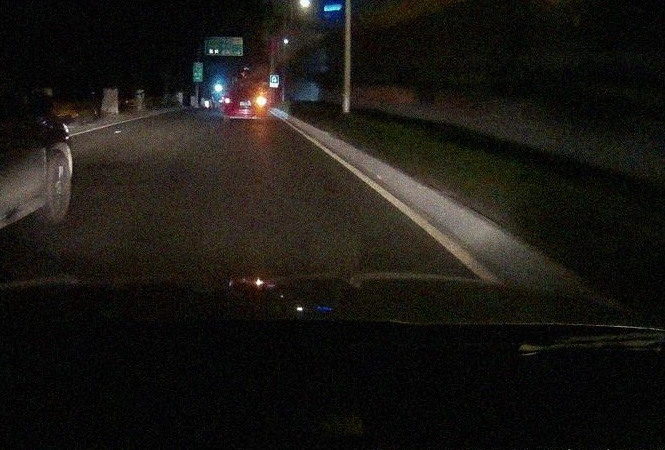L_light: (224, 97, 231, 104)
R_light: (257, 97, 267, 105)
T_light: (240, 87, 249, 89)
night-right: (223, 86, 267, 121)
